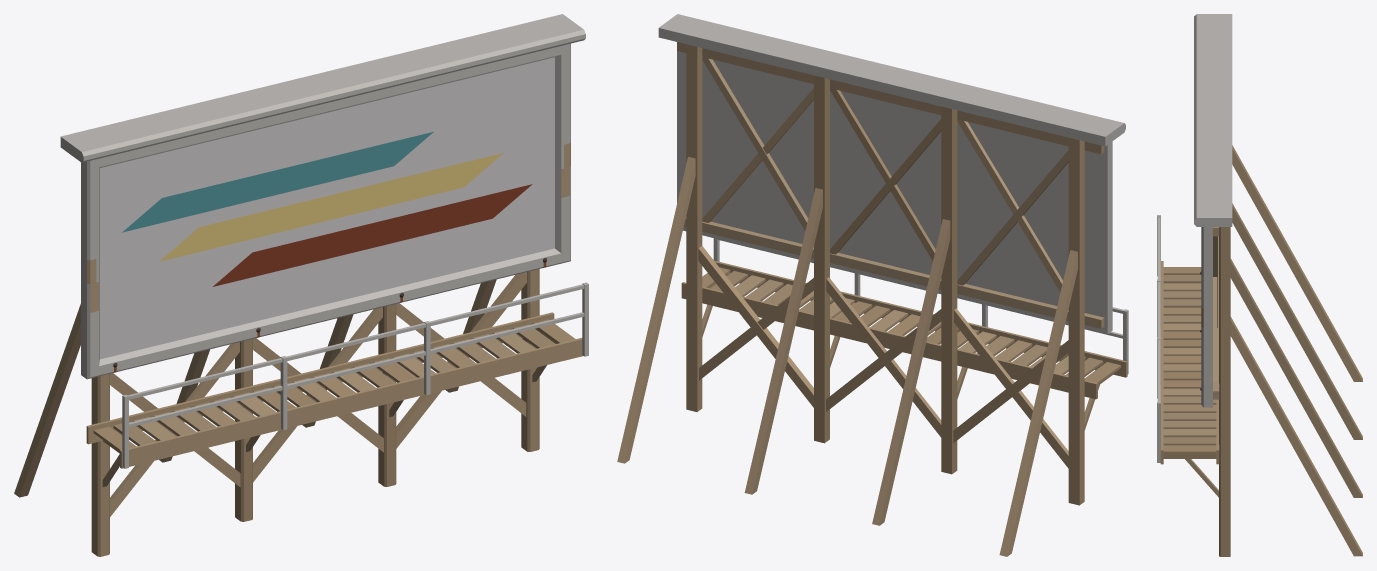
File: roadside-billboard-c3c053.glb
3 views of the same model, side by side, from view 1: azimuth 30°, elevation 25°; view 2: azimuth 150°, elevation 25°; view 3: azimuth 270°, elevation 25° (orthographic). The views are drawn at different scales.
Visible parts, largest first — view 1: billboard; view 2: billboard; view 3: billboard.
Boxes of the visible parts, bbox=[...] form: billboard: bbox=[14, 14, 588, 556]; billboard: bbox=[617, 14, 1128, 556]; billboard: bbox=[1157, 14, 1362, 556].
Bounding box in the file's own units: 8.3 × 6.67 × 3.54.
